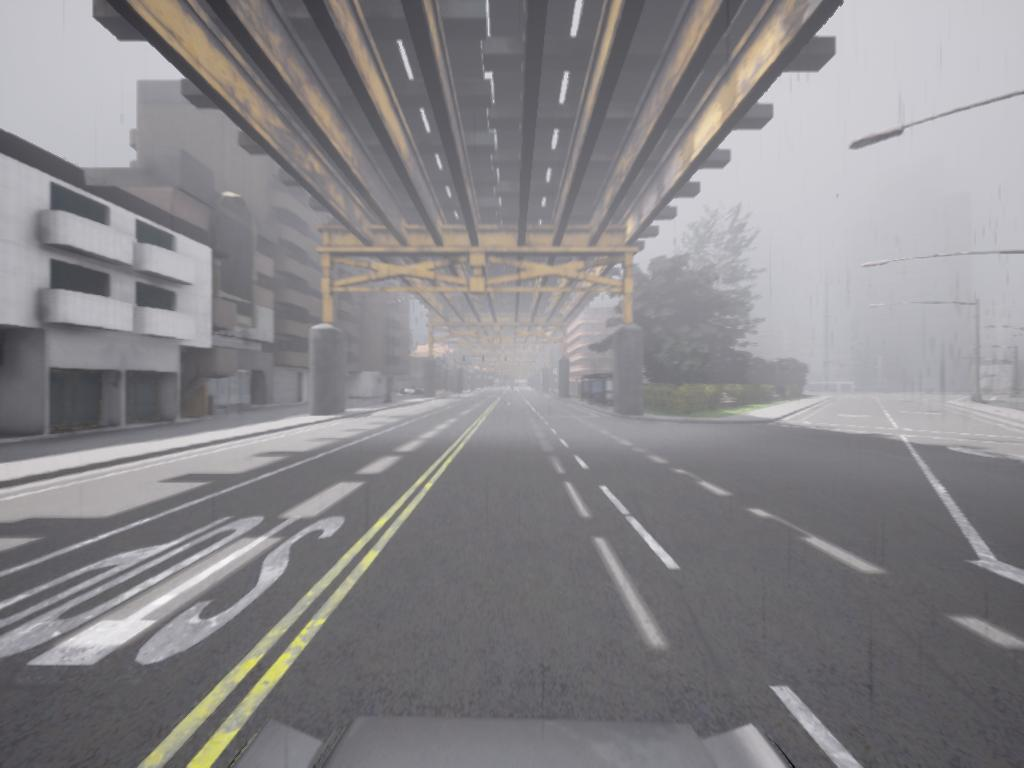traffic_light: (463, 357, 467, 363), (483, 356, 486, 363), (506, 357, 509, 364)
